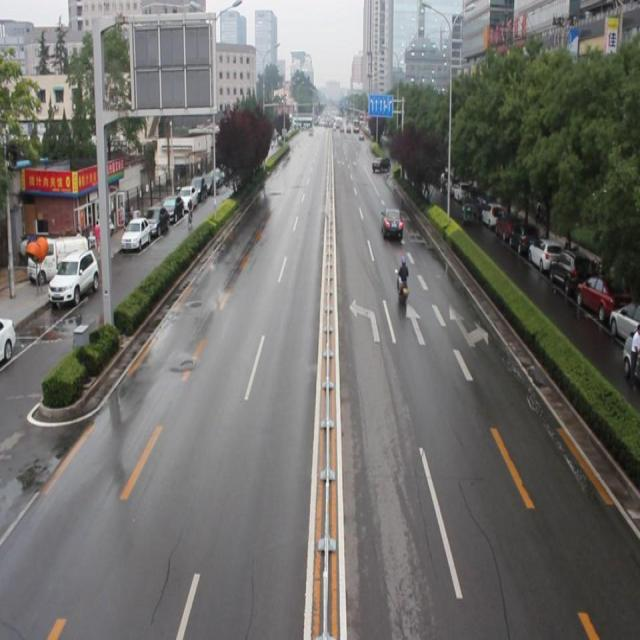car: (380, 205, 403, 238), (371, 157, 390, 170)
